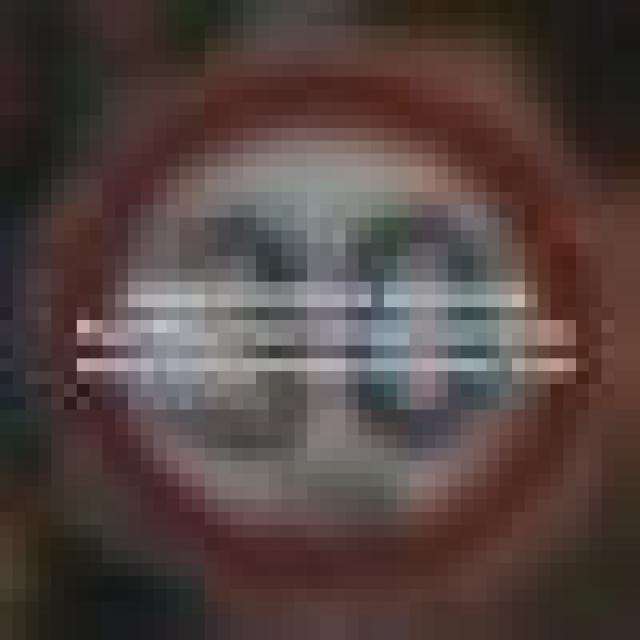SPEED_LIMIT_30: (0, 13, 602, 589)
